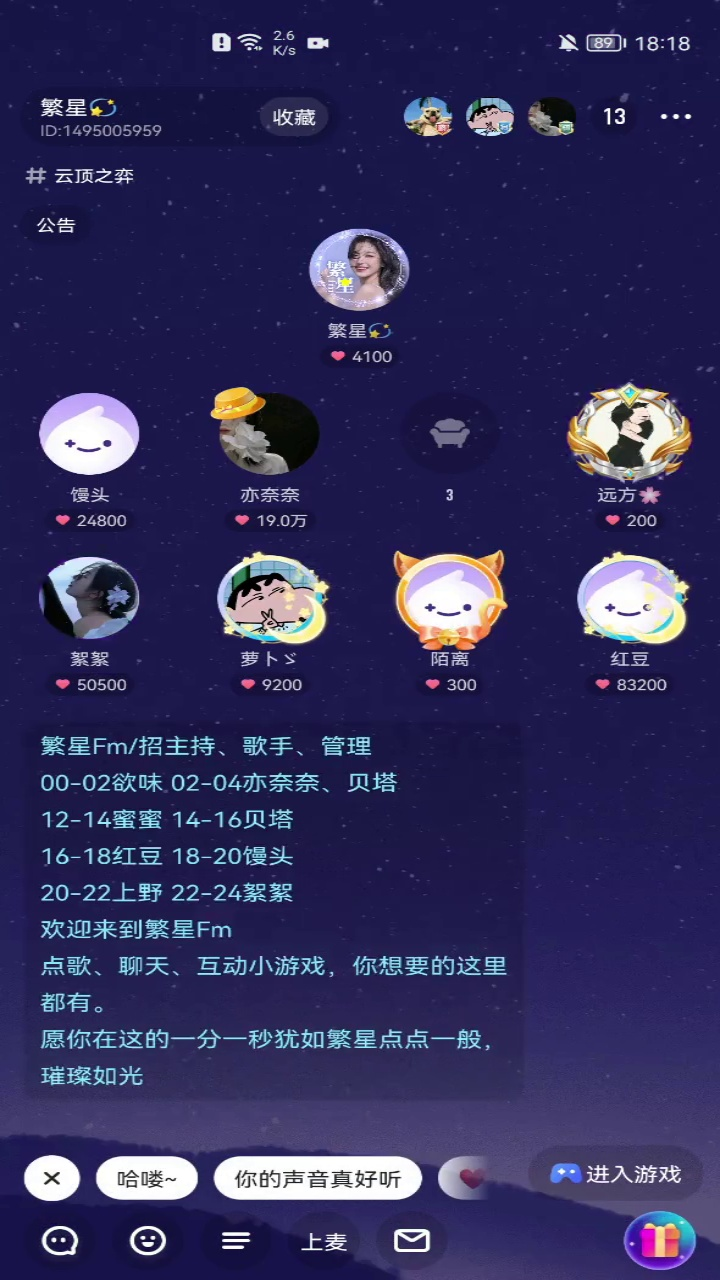avatar: (380, 540, 529, 650), (567, 546, 693, 648), (37, 388, 144, 481)
